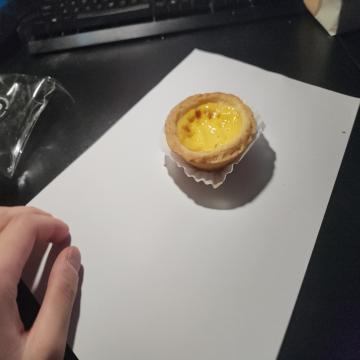EggTart: (165, 91, 258, 172)
